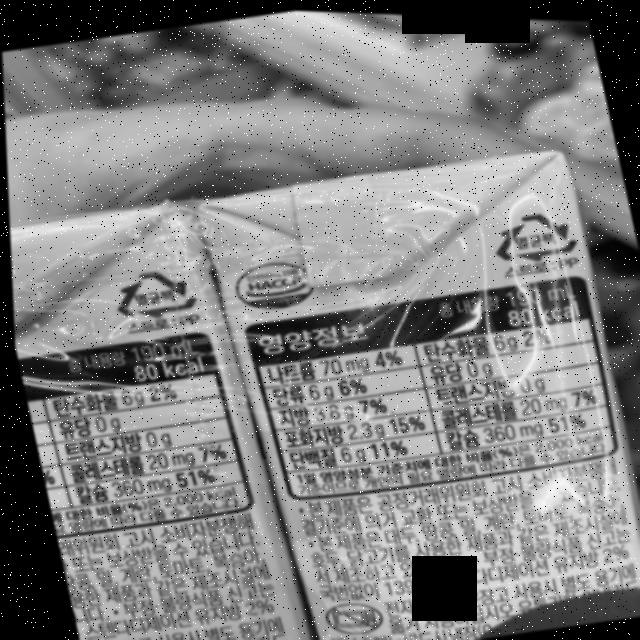SterilizedPack: (483, 201, 579, 267), (105, 260, 199, 323)
